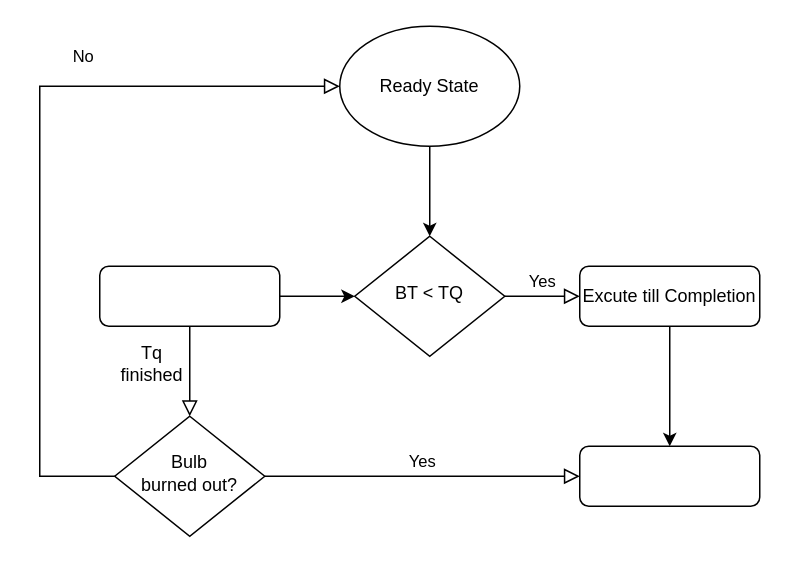
Image size: 786x563. Some labels were removed from this diagram. The shapes that lost their labels are listed below. From the top down, each one's centre as x and y in pixels, then its label:
(x=189, y=295): Executation for time quantum
(x=669, y=475): Terminaltion
